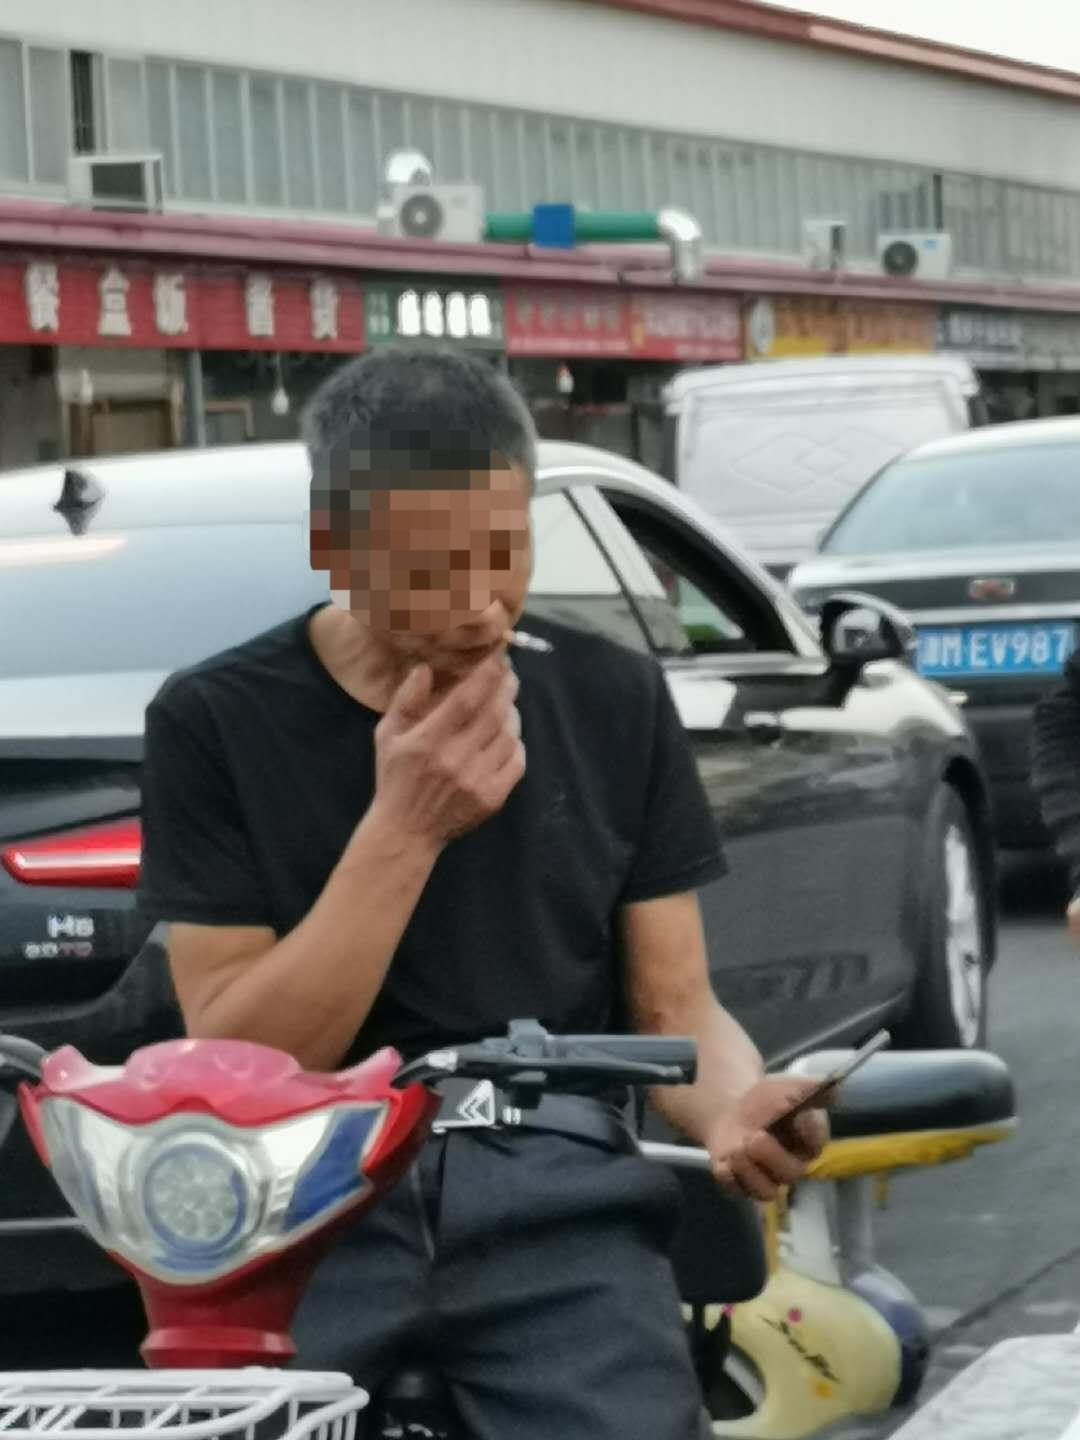smoke: (498, 628, 555, 657)
